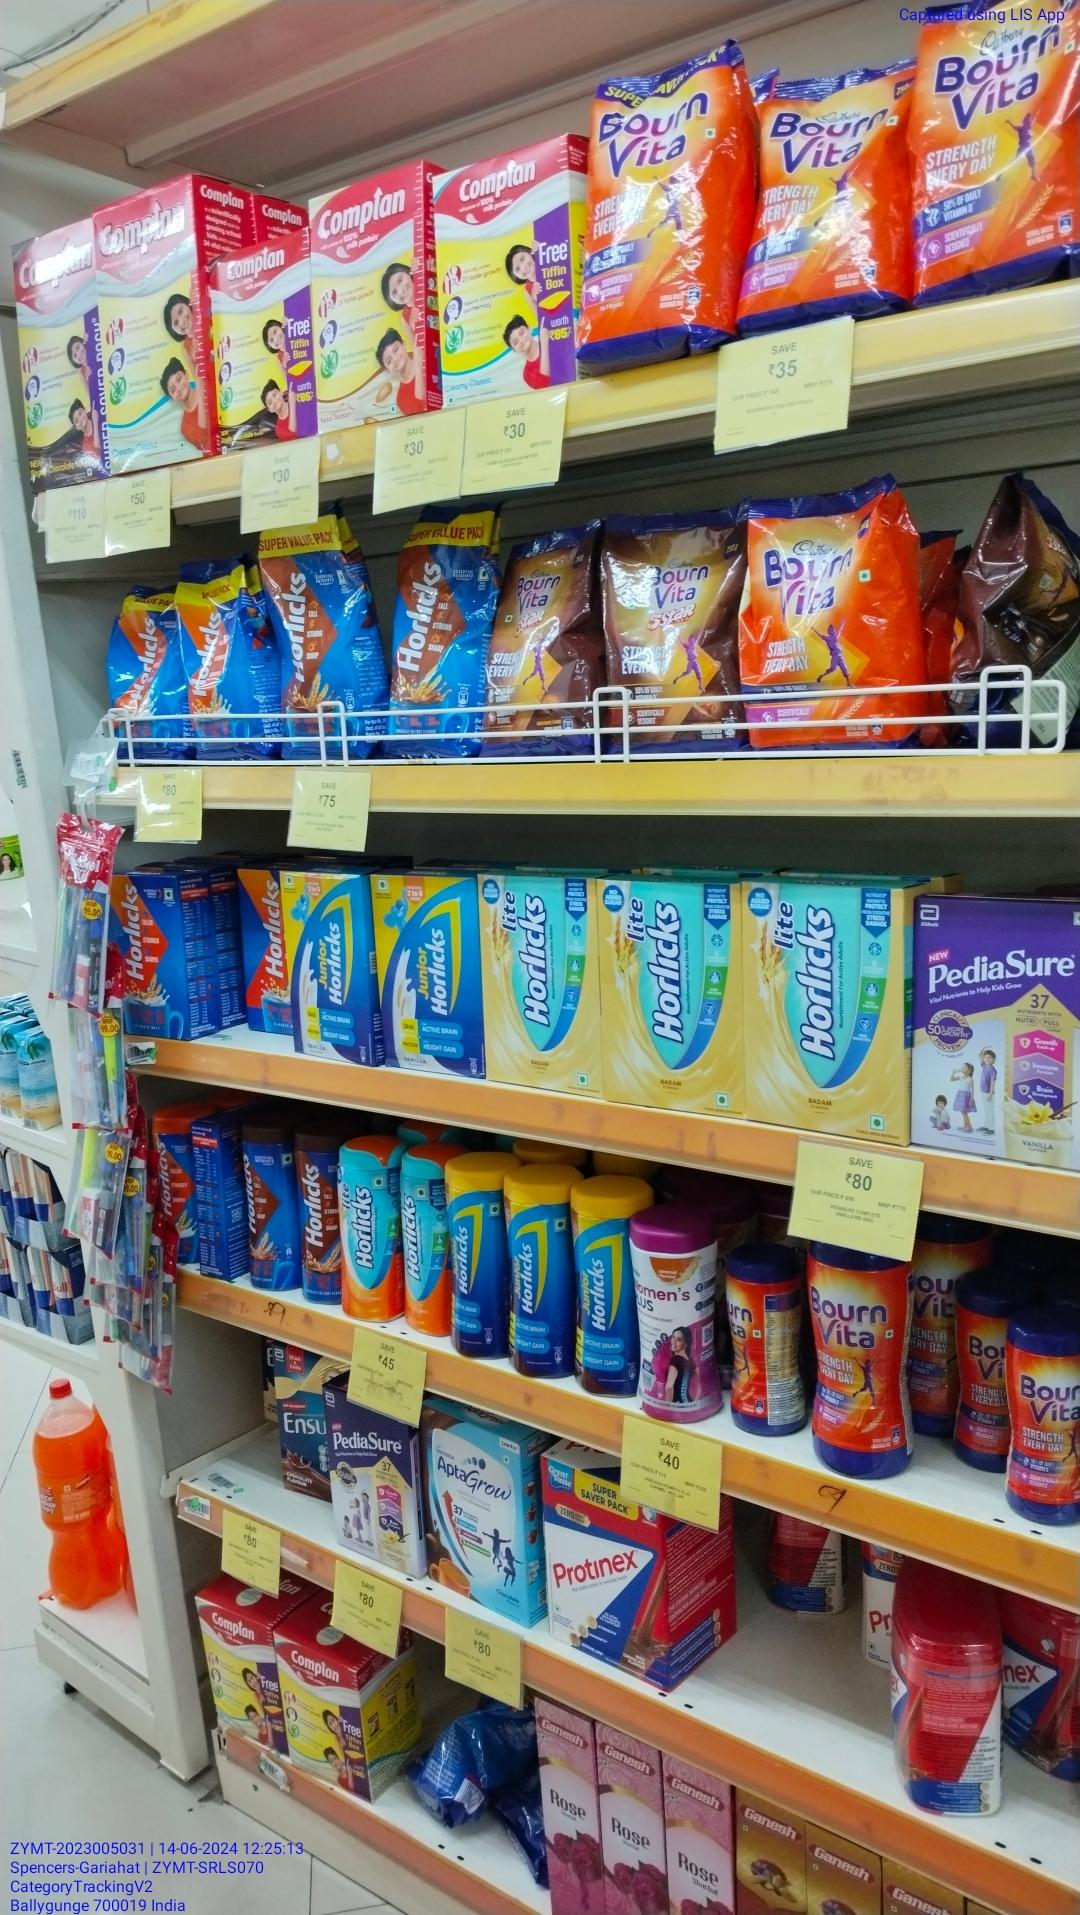BOURN_VITA_FIVE_STAR_MAGIC_500_G_POUCH: (605, 525, 725, 744), (491, 529, 597, 740)
HORLICKS_LITE_REGULAR_MALT_500_GM_JAR: (347, 1143, 401, 1319), (405, 1152, 453, 1338)
HORLICK_CHOCOLATE_1_KG_JAR: (246, 1123, 301, 1286), (300, 1138, 341, 1311)
PEDIASURE_VANILLA_500_G_PACK: (918, 883, 1077, 1171), (330, 1419, 420, 1569)
